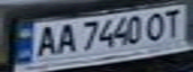0: (127, 12, 148, 45)
4: (112, 15, 133, 47), (97, 16, 118, 48)
7: (78, 18, 100, 52)
A: (30, 22, 60, 58), (51, 20, 78, 55)
O: (142, 10, 169, 42)
T: (160, 7, 187, 39)
